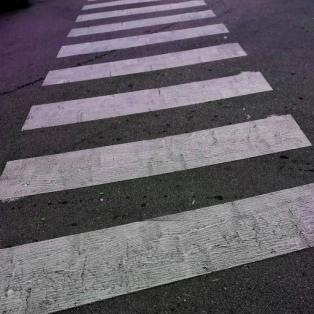Paso de Cebra: (16, 39, 278, 136)
